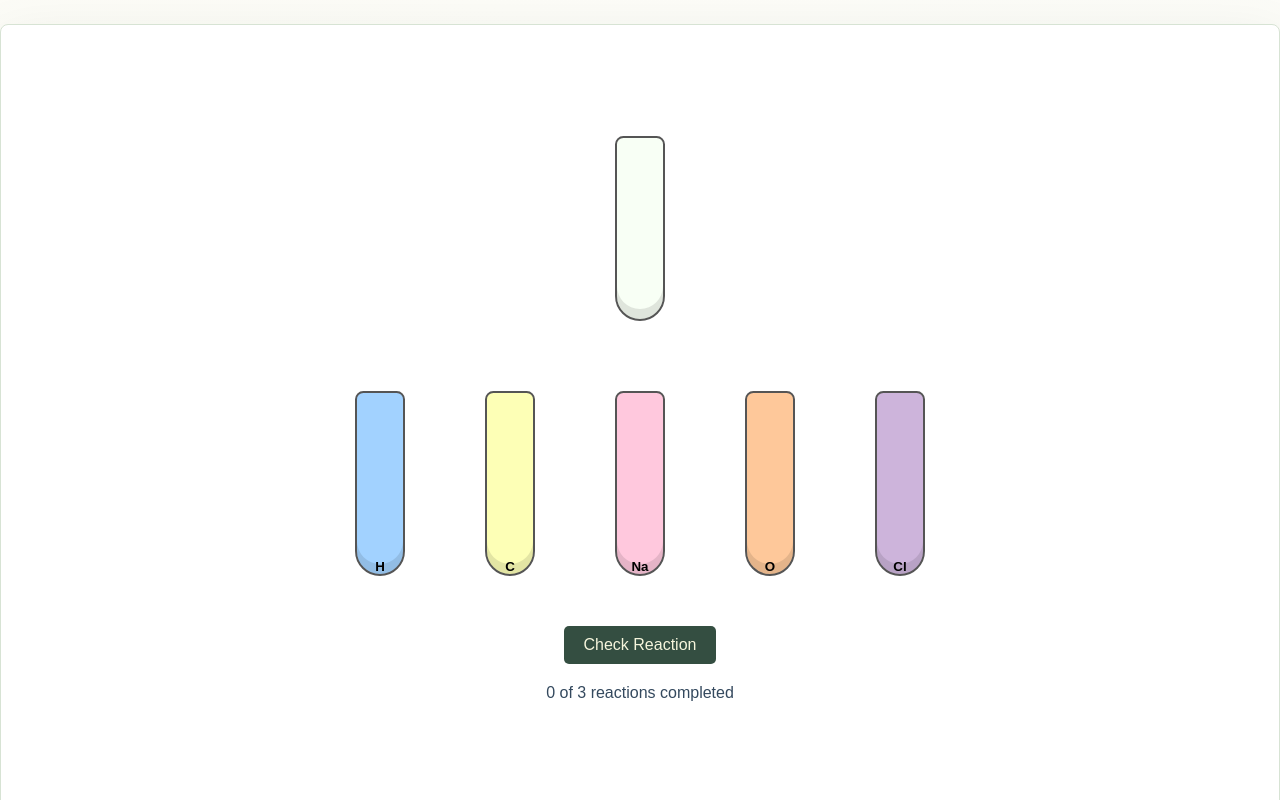
Test: shows a useful message when only one element is selected
Click the button with aria-label "select na".
click(640, 484)  # box top-left (615, 391), bottom-right (665, 576)
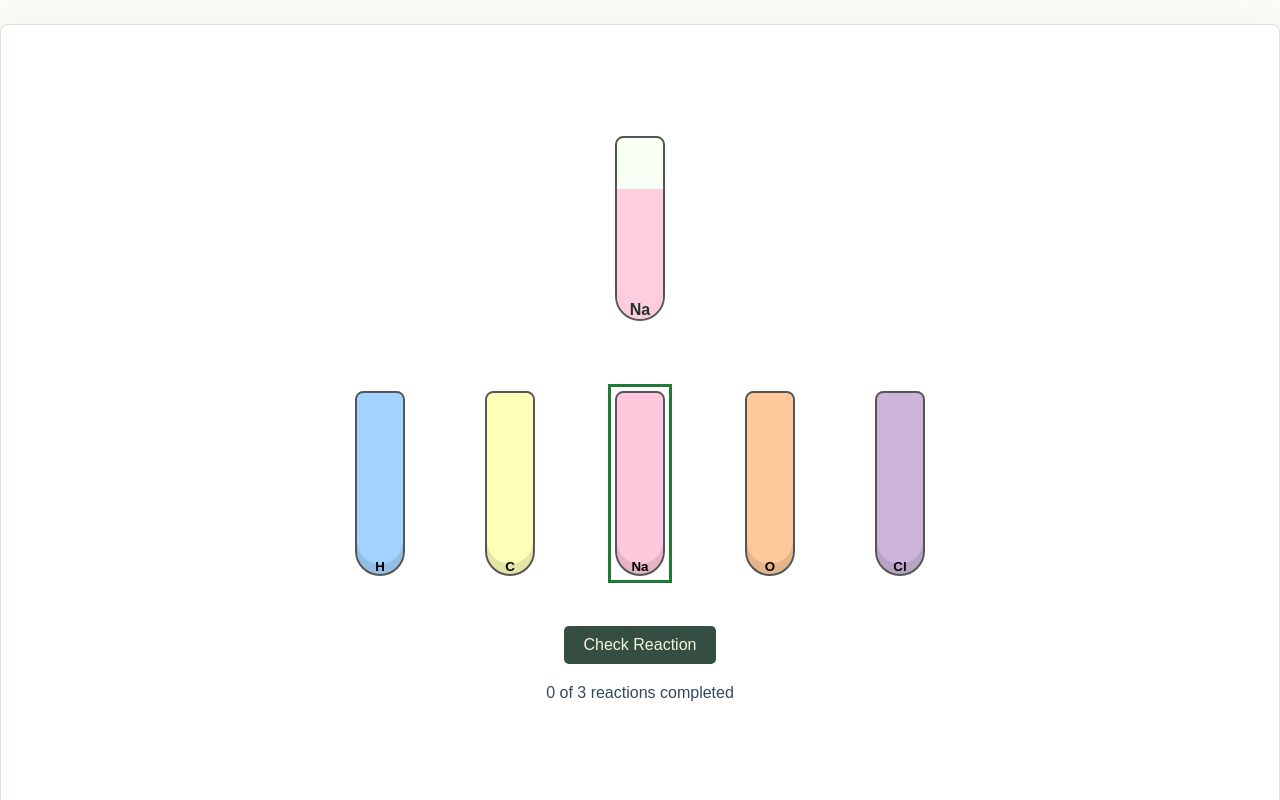
Click the button "Check Reaction".
click(640, 645)  # box top-left (564, 626), bottom-right (716, 664)
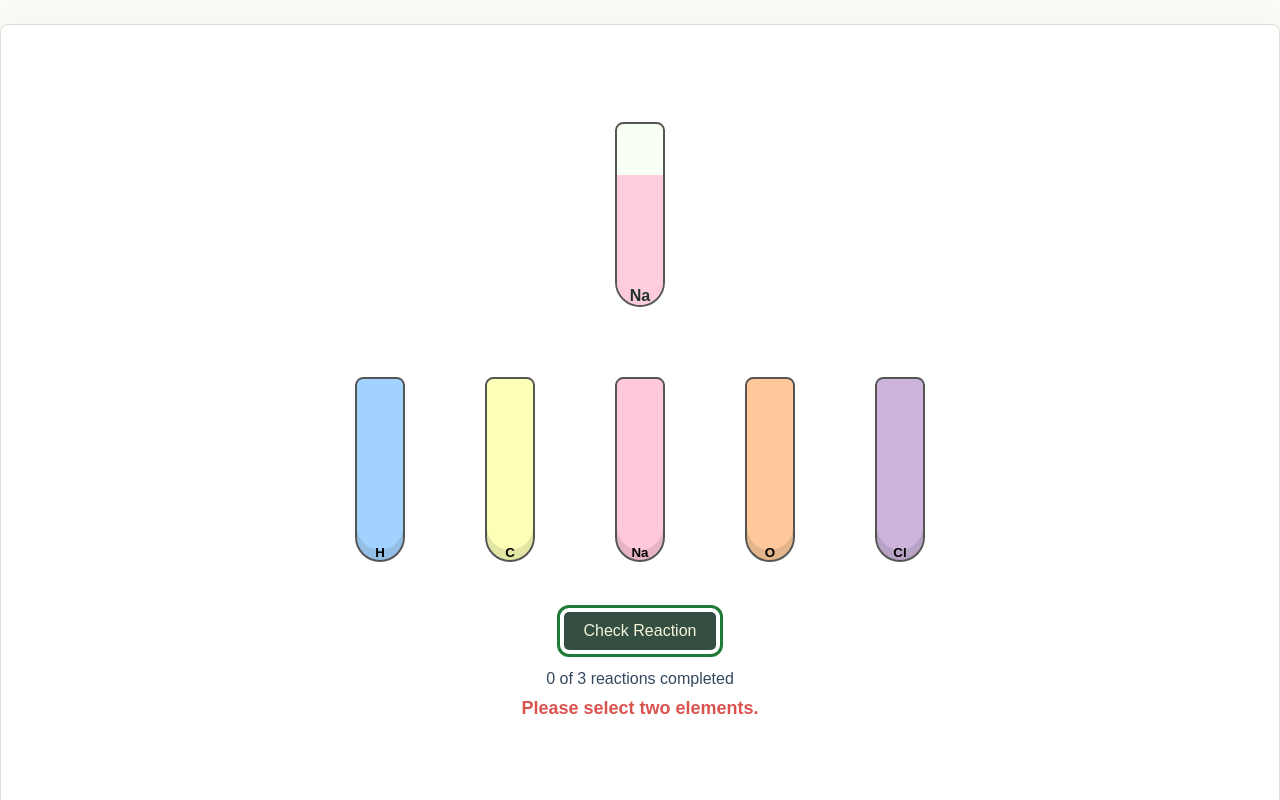
Expected: the text with test id "selected-elements" reads "Na", top-left (630, 287), bottom-right (650, 304)
Expected: the message reads "Please select two elements.", top-left (521, 698), bottom-right (758, 718)
